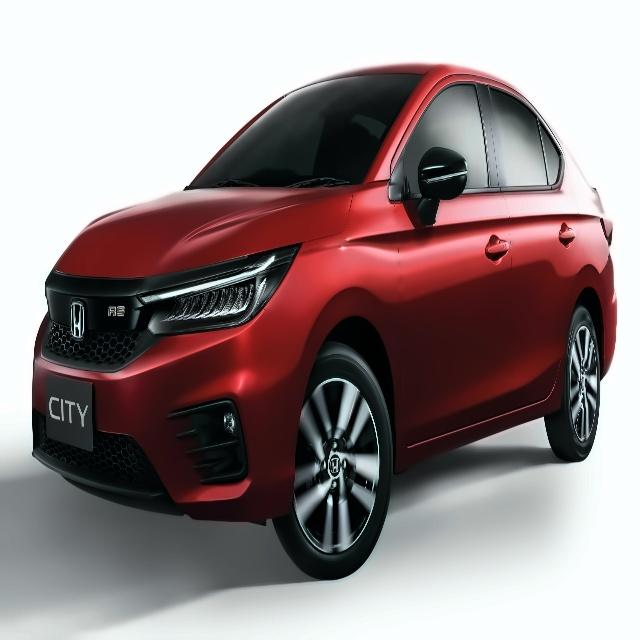Car hood: (49, 187, 358, 281)
Fender - -F-L-: (276, 181, 410, 474)
Fender - -R-L-: (557, 200, 617, 416)
Front bumper: (39, 307, 316, 525)
Headlight - -L-: (127, 236, 302, 346)
Passenger-s door - -F-L-: (390, 63, 518, 445)
Passenger-s door - -R-L-: (487, 65, 590, 410)
Rear bumper: (589, 290, 640, 380)
Rear light - -L-: (582, 180, 617, 254)
Side bumper - -L-: (383, 379, 571, 475)
Side mirror - -L-: (383, 139, 476, 215)
